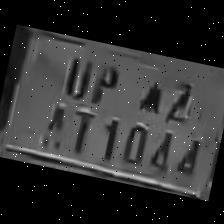0: (114, 114, 153, 166)
1: (88, 109, 124, 162)
2: (157, 72, 197, 127)
4: (141, 121, 178, 174), (168, 126, 204, 180)
A: (36, 94, 74, 148)
P: (85, 54, 124, 106)
T: (60, 100, 100, 154)
U: (57, 46, 98, 100)
